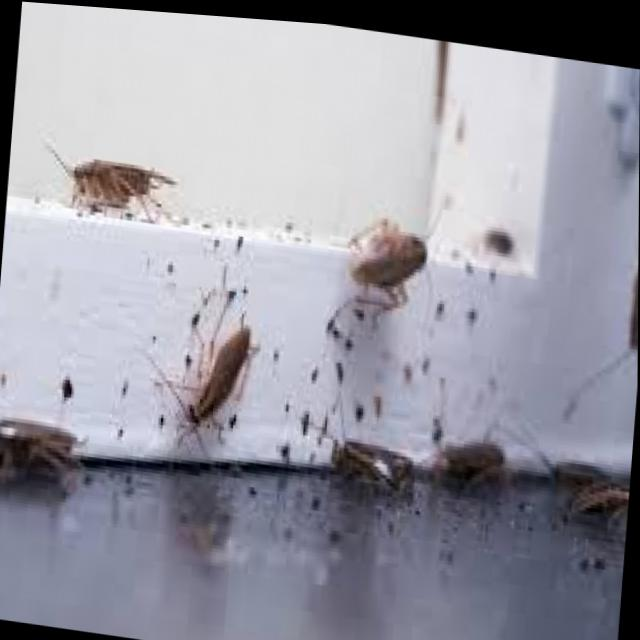Cockroach: (129, 267, 275, 460), (331, 176, 454, 324), (35, 122, 180, 226)
